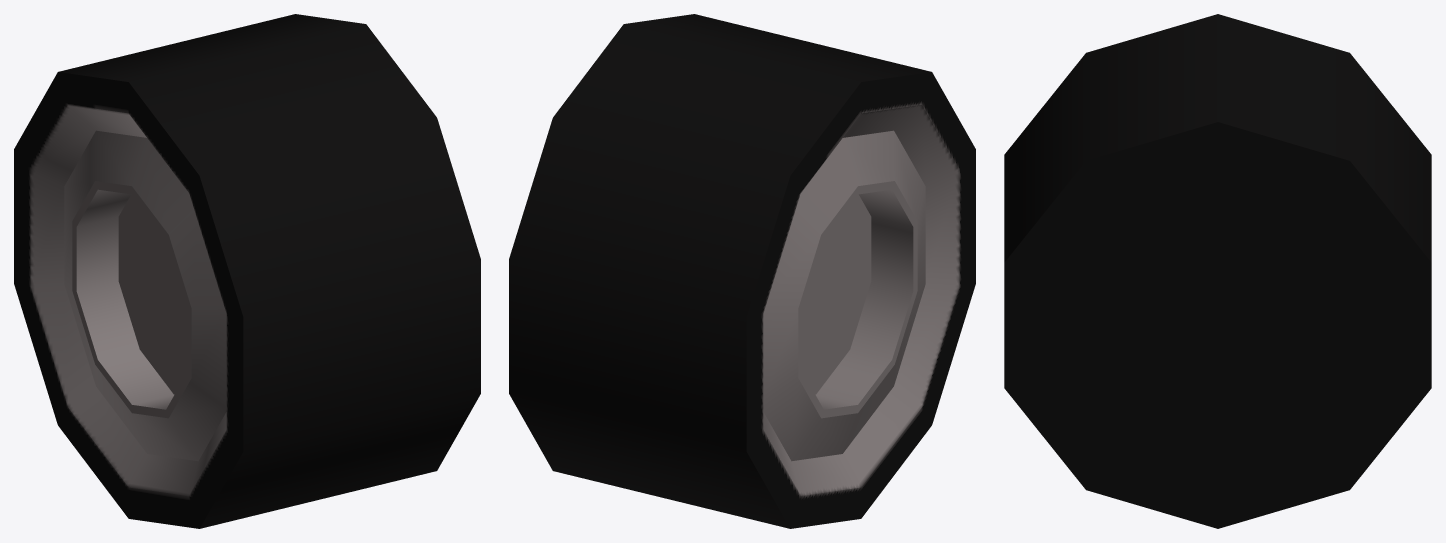
Rendered from cardboard_car4_tire_rear_right.fbx.
3 views of the same model, side by side, from view 1: azimuth 30°, elevation 25°; view 2: azimuth 150°, elevation 25°; view 3: azimuth 270°, elevation 25° (orthographic). The views are drawn at different scales.
Visible parts, largest first — view 1: cardboard_car4_tire2; view 2: cardboard_car4_tire2; view 3: cardboard_car4_tire2.
Part boxes in pixels (box(x1,y1,x2,y2)): cardboard_car4_tire2: box(14, 14, 480, 528); cardboard_car4_tire2: box(509, 14, 975, 528); cardboard_car4_tire2: box(1004, 14, 1431, 528).
Bounding box in the file's own units: 26.29 × 46.18 × 43.92.
